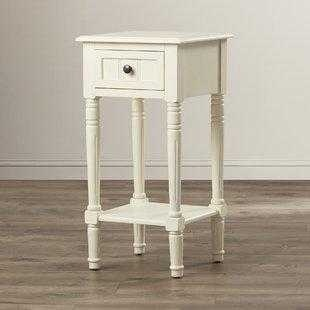obstacle: (76, 32, 235, 277)
